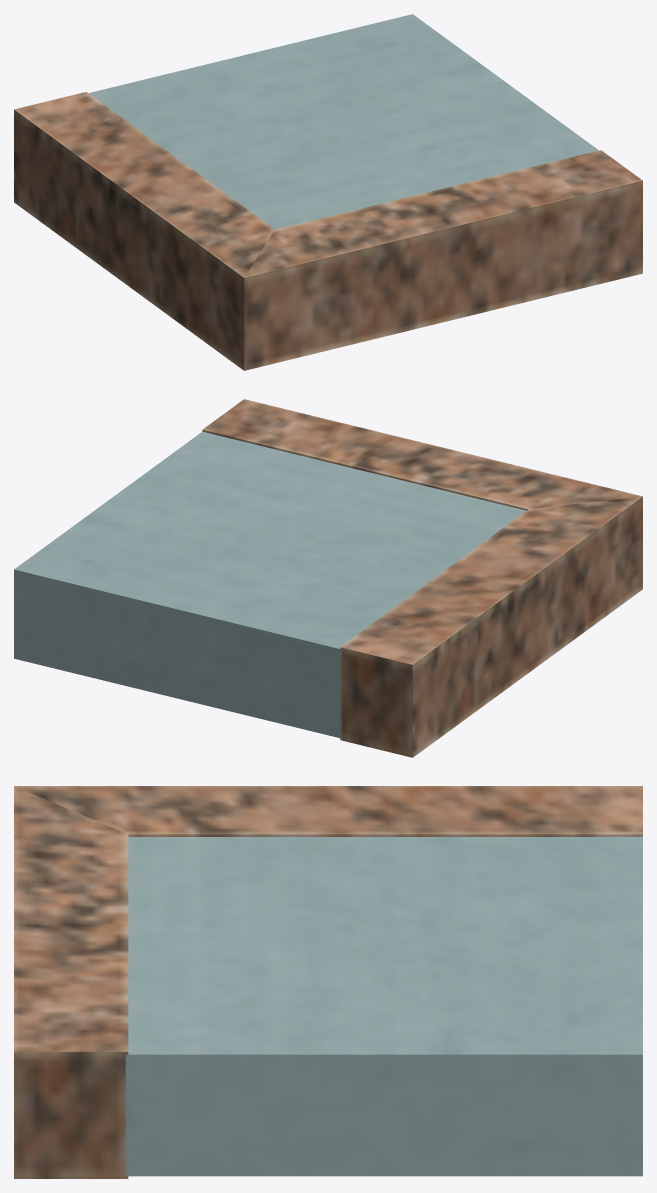
The model's file is set_base_b_04_half.fbx.
3 renders of one model, top to bottom at view 1: azimuth 30°, elevation 25°; view 2: azimuth 150°, elevation 25°; view 3: azimuth 270°, elevation 25°, orthographic. The views are drawn at different scales.
Parts seen in each view (by area): view 1: set_base_b_04_half; view 2: set_base_b_04_half; view 3: set_base_b_04_half.
Part boxes in pixels (bbox=[...]): set_base_b_04_half: bbox=[14, 14, 642, 370]; set_base_b_04_half: bbox=[14, 399, 642, 757]; set_base_b_04_half: bbox=[14, 786, 642, 1178].
Bounding box in the file's own units: 55 × 12.25 × 55.
